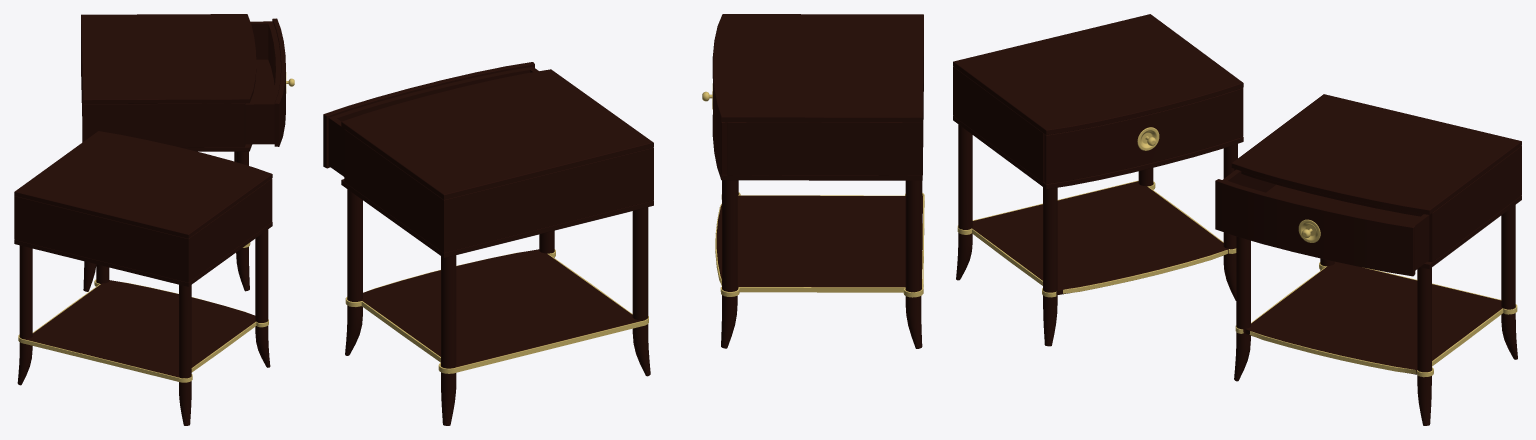
File: tumba.FBX
The picture shows the model from 3 angles, left to right: view 1: azimuth 30°, elevation 25°; view 2: azimuth 150°, elevation 25°; view 3: azimuth 270°, elevation 25°; orthographic projection. The views are drawn at different scales.
Visible parts, largest first — view 1: Rectangle001, Rectangle005, Rectangle004, Rectangle003, Rectangle007, Group003, Line005, Line004, Line003, Group001, Rectangle002, Line008 (+2 smaller); view 2: Rectangle005, Rectangle001, Rectangle008, Rectangle007, Rectangle004, Rectangle003, Group003, Line005, Line009, Group001, Line010, Line002 (+4 smaller); view 3: Rectangle001, Rectangle005, Rectangle004, Rectangle008, Group003, Group001, Rectangle007, Rectangle003, Line003, Line007, Line004, Line010 (+5 smaller).
Boxes of the visible parts, x1,y1,x2,y2 form: Rectangle001: (14, 131, 272, 238); Rectangle005: (81, 14, 256, 104); Rectangle004: (25, 280, 255, 377); Rectangle003: (14, 180, 269, 282); Rectangle007: (81, 29, 245, 147); Group003: (245, 18, 285, 146); Line005: (17, 245, 32, 385); Line004: (179, 284, 191, 425); Line003: (255, 229, 270, 367); Group001: (18, 178, 272, 382); Rectangle002: (14, 222, 272, 286); Line008: (236, 151, 249, 291); Rectangle005: (341, 69, 653, 199); Rectangle001: (712, 14, 923, 122); Rectangle008: (361, 249, 640, 367); Rectangle007: (344, 129, 653, 252); Rectangle004: (716, 195, 922, 289); Rectangle003: (727, 34, 923, 175); Group003: (323, 62, 538, 176); Line005: (905, 180, 922, 348); Line009: (632, 207, 650, 376); Group001: (713, 82, 924, 297); Line010: (441, 255, 456, 425); Line002: (721, 180, 737, 348); Rectangle001: (953, 14, 1243, 134); Rectangle005: (1231, 94, 1521, 214); Rectangle004: (972, 181, 1228, 294); Rectangle008: (1245, 261, 1502, 374); Group003: (1215, 169, 1429, 276); Group001: (957, 88, 1243, 297); Rectangle007: (1234, 146, 1521, 262); Rectangle003: (953, 66, 1044, 182); Line003: (1043, 187, 1057, 346); Line007: (1417, 267, 1431, 425); Line004: (956, 124, 972, 280); Line010: (1501, 205, 1517, 359).
Bounding box in the file's own units: 1335 × 649 × 1538.
